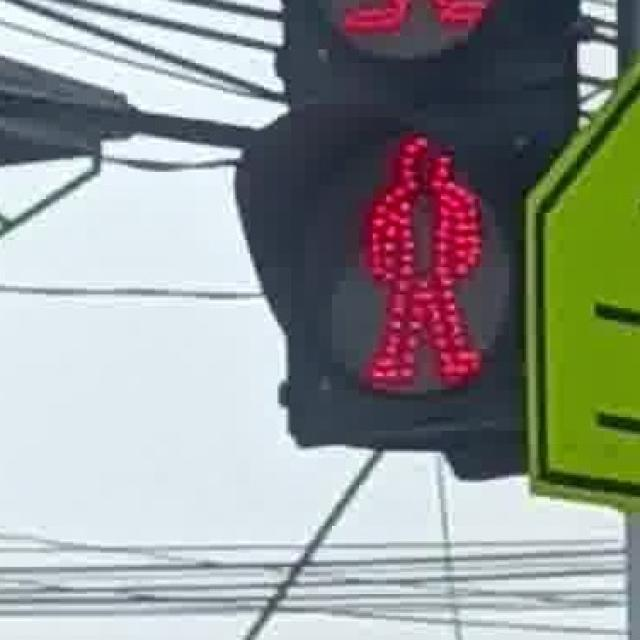red-light: (345, 115, 514, 403)
